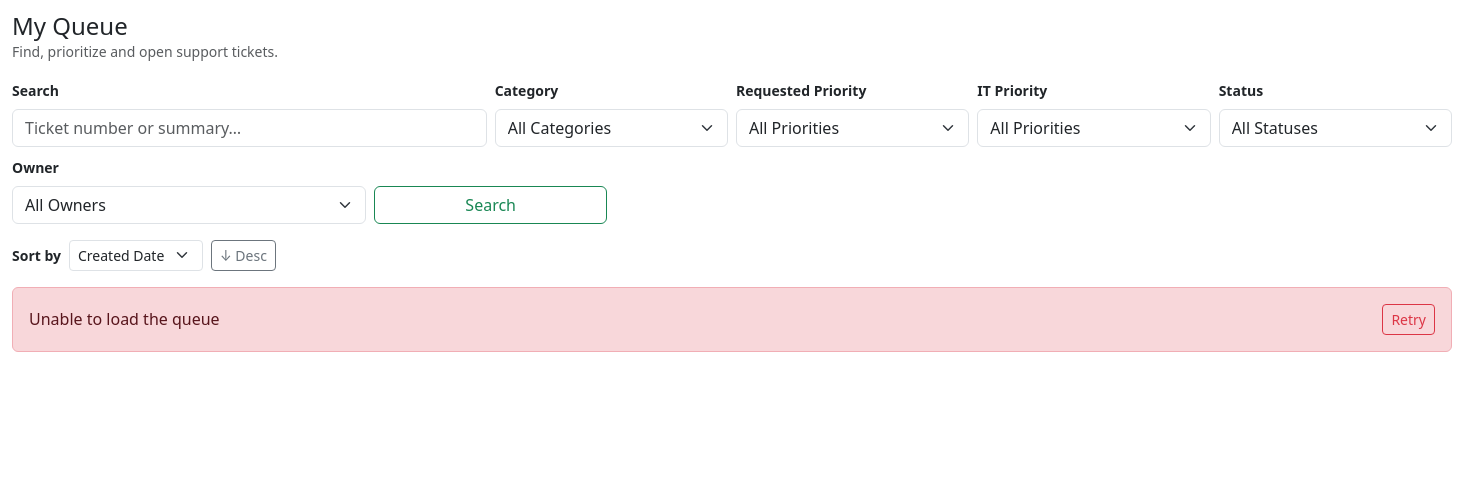
Scenario: StaffQueue › shows a safe failure state and recovers on Retry
This screenshot has width=1464, height=504.
Expected: the message shows "Unable to load the queue", [29,308,220,330]
Click the button "Retry".
click(1409, 319)  # box [1382,304,1435,335]
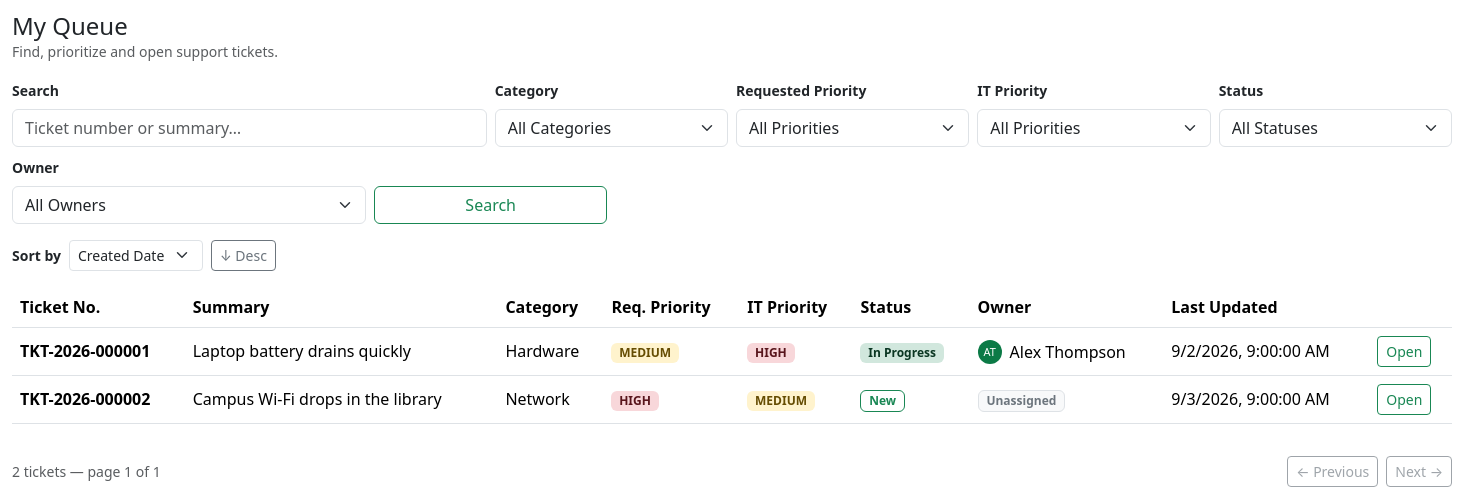
Now the text "TKT-2026-000001" is shown, box [12,327,185,375]
